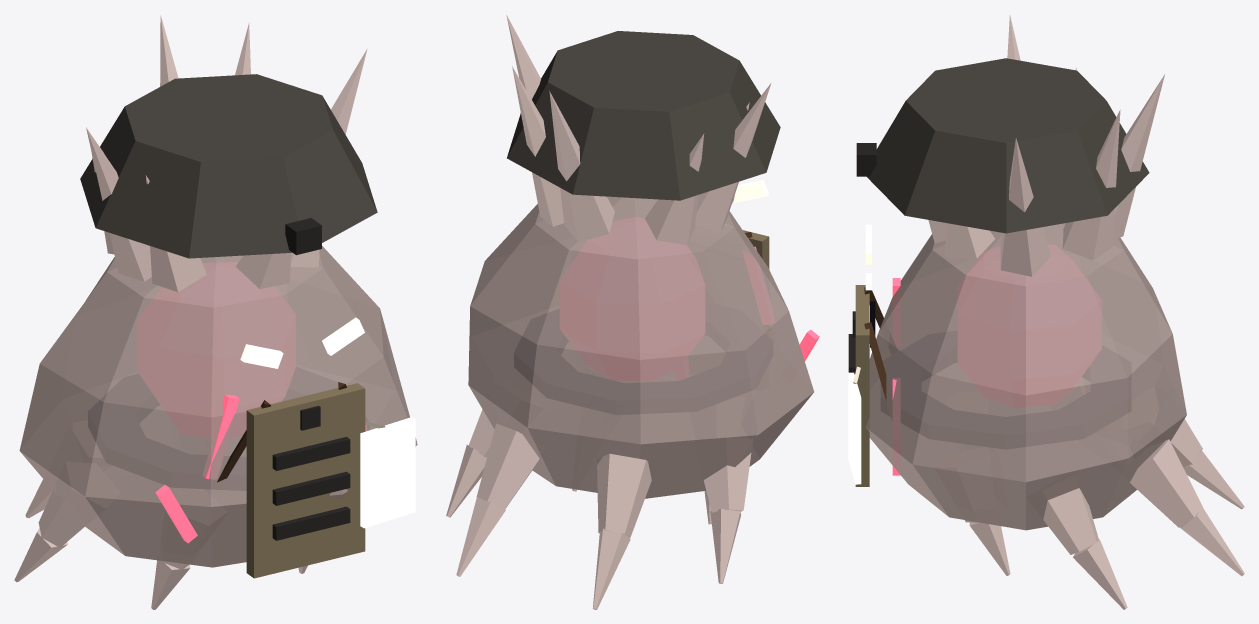
Rendered from soul_old_number_named.glb.
3 renders of one model, left to right at view 1: azimuth 30°, elevation 25°; view 2: azimuth 150°, elevation 25°; view 3: azimuth 270°, elevation 25°, orthographic. The views are drawn at different scales.
Parts seen in each view (by area): view 1: soul_old_number_named; view 2: soul_old_number_named; view 3: soul_old_number_named.
Boxes of the visible parts, <box> form: soul_old_number_named: <box>14,15,417,609</box>; soul_old_number_named: <box>446,15,819,609</box>; soul_old_number_named: <box>848,15,1244,609</box>.
Bounding box in the file's own units: 0.9285 × 1.32 × 0.9952.
